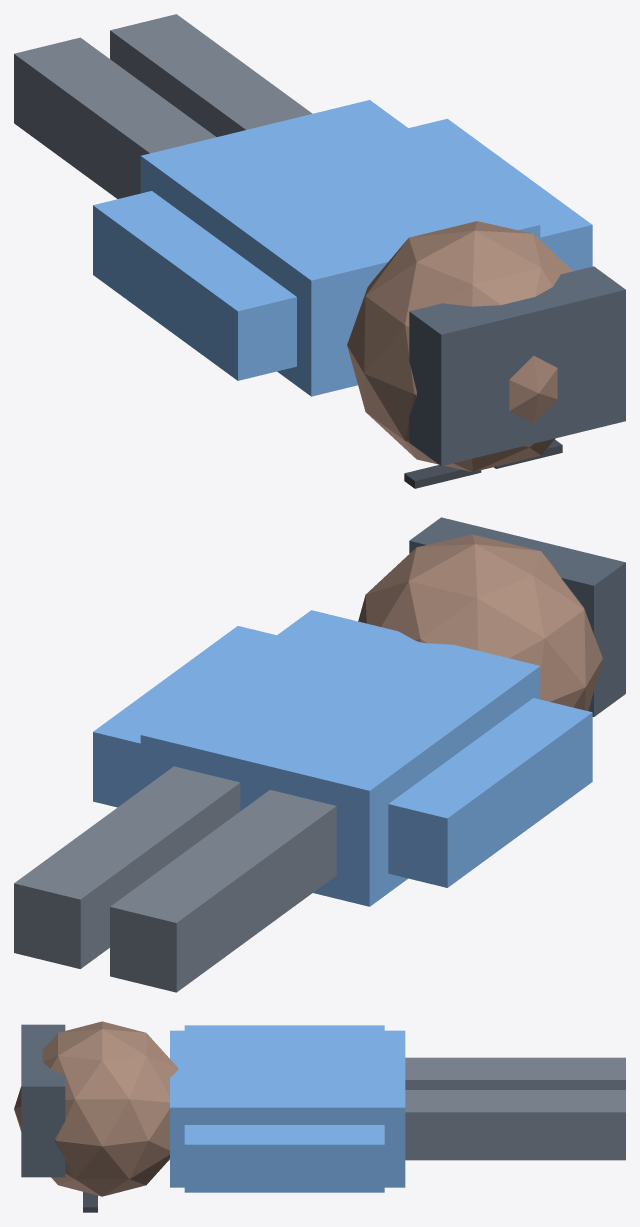
File: junior_variant_4.glb
3 renders of one model, top to bottom at view 1: azimuth 30°, elevation 25°; view 2: azimuth 150°, elevation 25°; view 3: azimuth 270°, elevation 25°, orthographic. The views are drawn at different scales.
Parts seen in each view (by area): view 1: torso_2, hair_6, head_5, arm_l_3, leg_l_0, leg_r_1, arm_r_4, glasses_l_7; view 2: torso_2, leg_l_0, head_5, arm_l_3, leg_r_1, arm_r_4, hair_6; view 3: torso_2, head_5, leg_r_1, arm_r_4, leg_l_0, hair_6, arm_l_3, glasses_r_8.
Part boxes in pixels (bbox=[...]): torso_2: bbox=[140, 100, 540, 396]; hair_6: bbox=[409, 266, 625, 466]; head_5: bbox=[347, 221, 573, 472]; arm_l_3: bbox=[93, 191, 296, 380]; leg_l_0: bbox=[14, 37, 216, 198]; leg_r_1: bbox=[110, 14, 312, 136]; arm_r_4: bbox=[409, 118, 592, 270]; glasses_l_7: bbox=[404, 465, 481, 488]; torso_2: bbox=[140, 610, 540, 906]; leg_l_0: bbox=[110, 790, 336, 992]; head_5: bbox=[358, 534, 602, 710]; arm_l_3: bbox=[388, 698, 592, 887]; leg_r_1: bbox=[14, 766, 240, 968]; arm_r_4: bbox=[93, 626, 276, 807]; hair_6: bbox=[409, 517, 625, 716]; torso_2: bbox=[170, 1030, 405, 1187]; head_5: bbox=[14, 1021, 177, 1196]; leg_r_1: bbox=[405, 1090, 625, 1160]; arm_r_4: bbox=[184, 1125, 384, 1192]; leg_l_0: bbox=[405, 1057, 625, 1089]; hair_6: bbox=[21, 1024, 65, 1177]; arm_l_3: bbox=[184, 1025, 384, 1030]; glasses_r_8: bbox=[83, 1192, 97, 1212].
Size of the model in its own units: 0.96 by 0.6 by 2.08.
